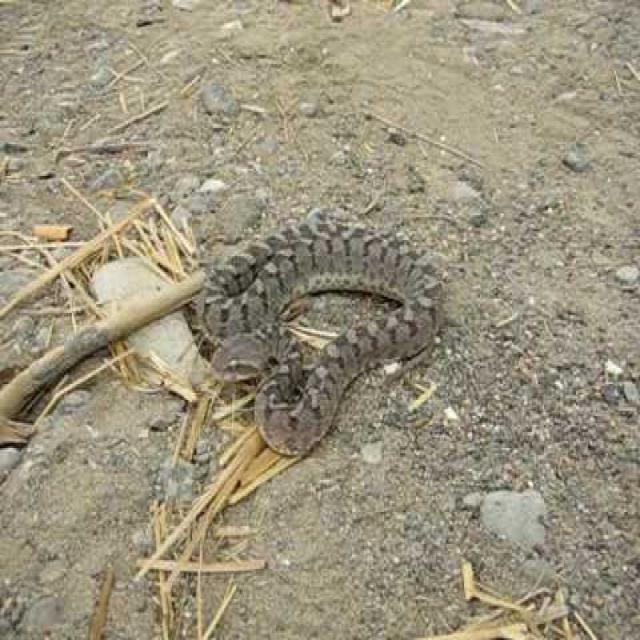Snake: (194, 204, 448, 458)
